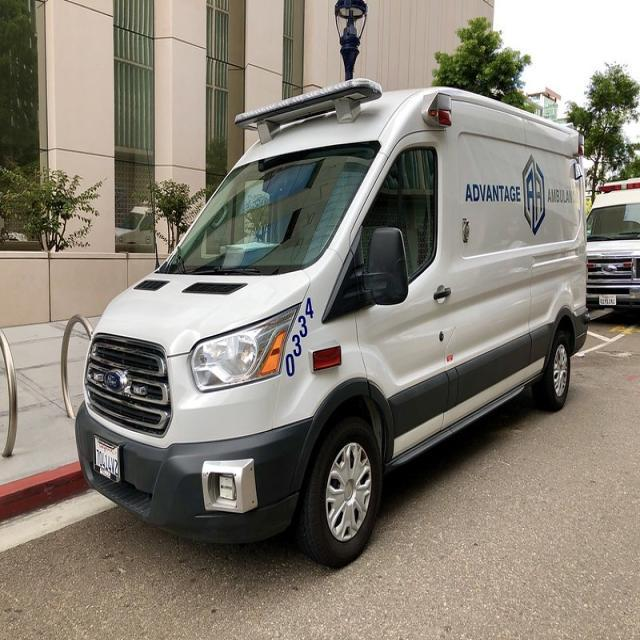emergency: (73, 71, 454, 573)
